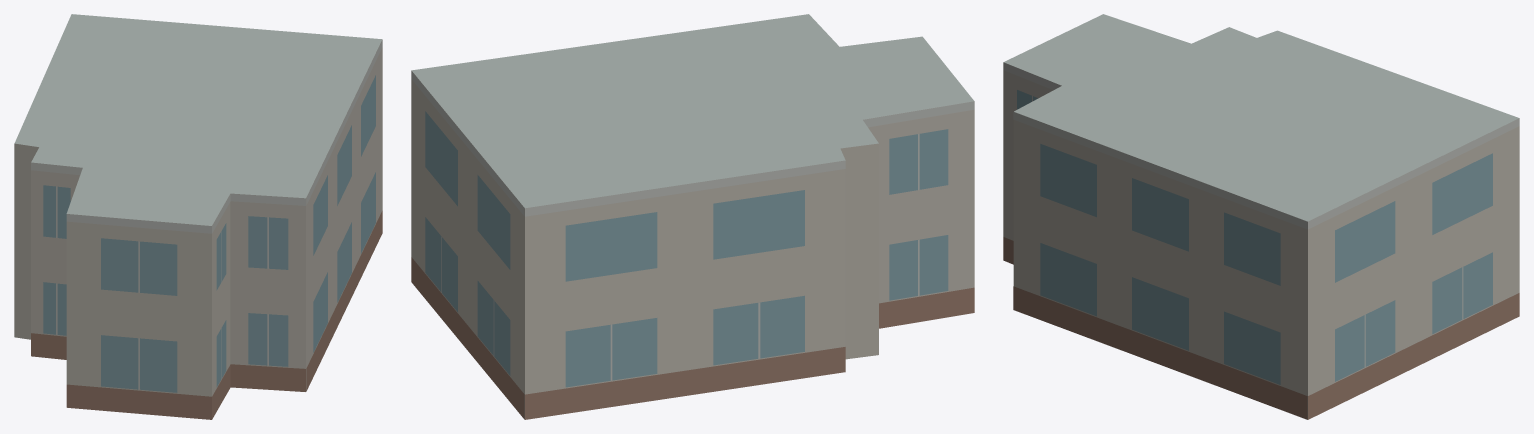
Rendered from survey-upis-32469605.glb.
3 views of the same model, side by side, from view 1: azimuth 30°, elevation 25°; view 2: azimuth 150°, elevation 25°; view 3: azimuth 270°, elevation 25° (orthographic). The views are drawn at different scales.
Parts seen in each view (by area): view 1: survey-upis-32469605.tmp; view 2: survey-upis-32469605.tmp; view 3: survey-upis-32469605.tmp.
Boxes of the visible parts, box(x1,y1,x2,y2) form: survey-upis-32469605.tmp: box(14, 14, 382, 419); survey-upis-32469605.tmp: box(411, 14, 974, 419); survey-upis-32469605.tmp: box(1003, 14, 1519, 419).
Bounding box in the file's own units: 13.71 × 6.1 × 14.4.
